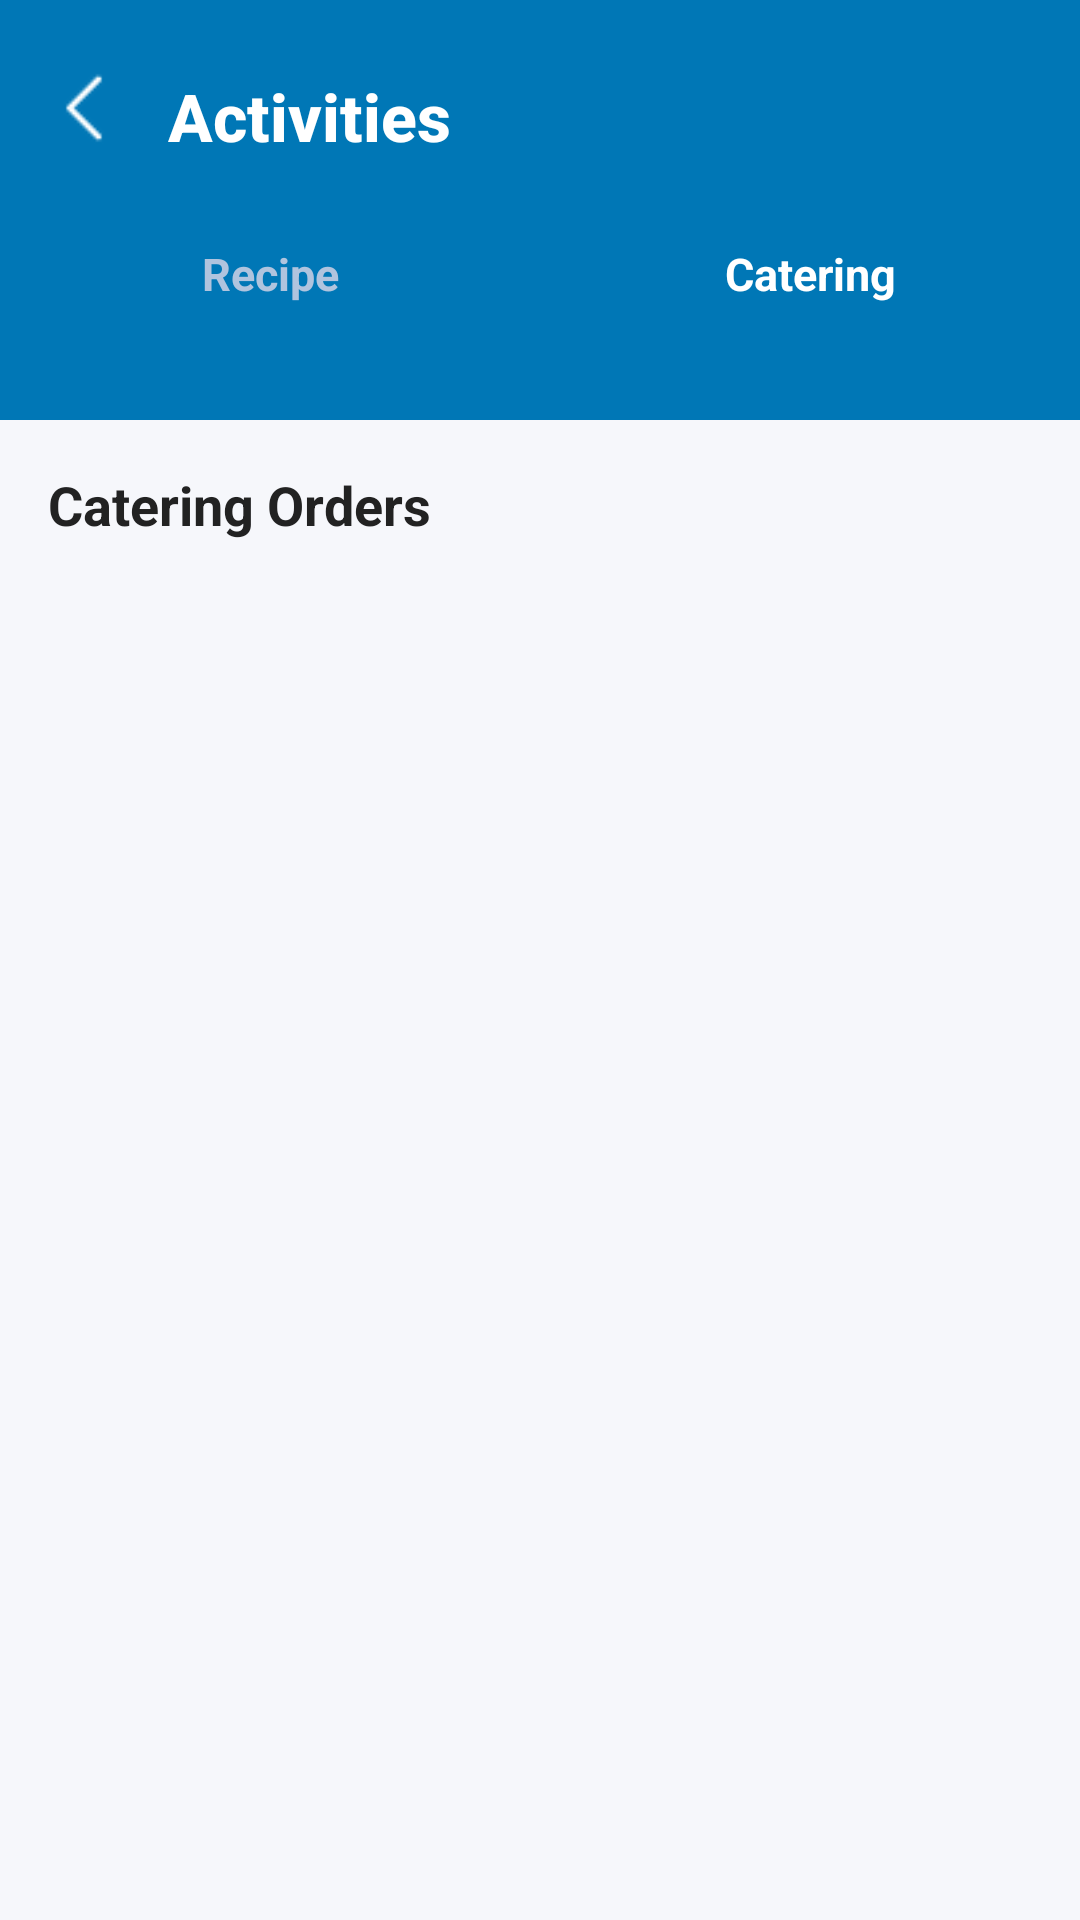

Icons on this 1080px x 1920px Android screen, each with its box as (x1=x1, y1=y1, x2=x2, y2=y2):
back: (x1=66, y1=74, x2=102, y2=142)
